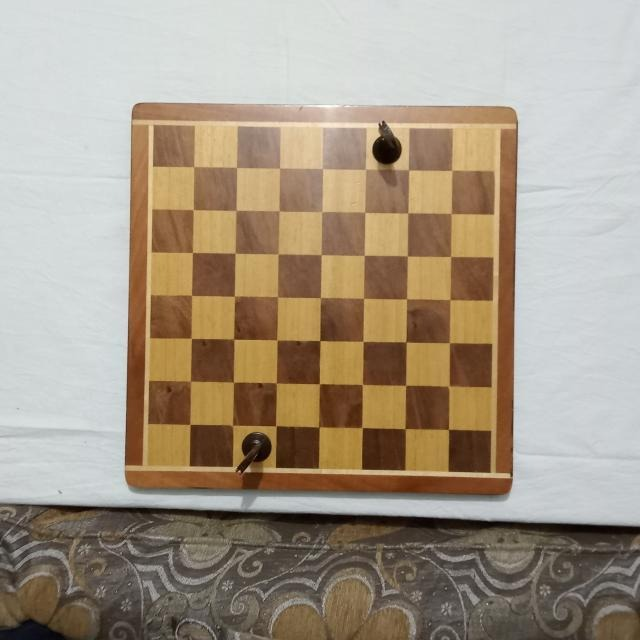black-knight: (234, 429, 272, 479), (371, 118, 404, 166)
